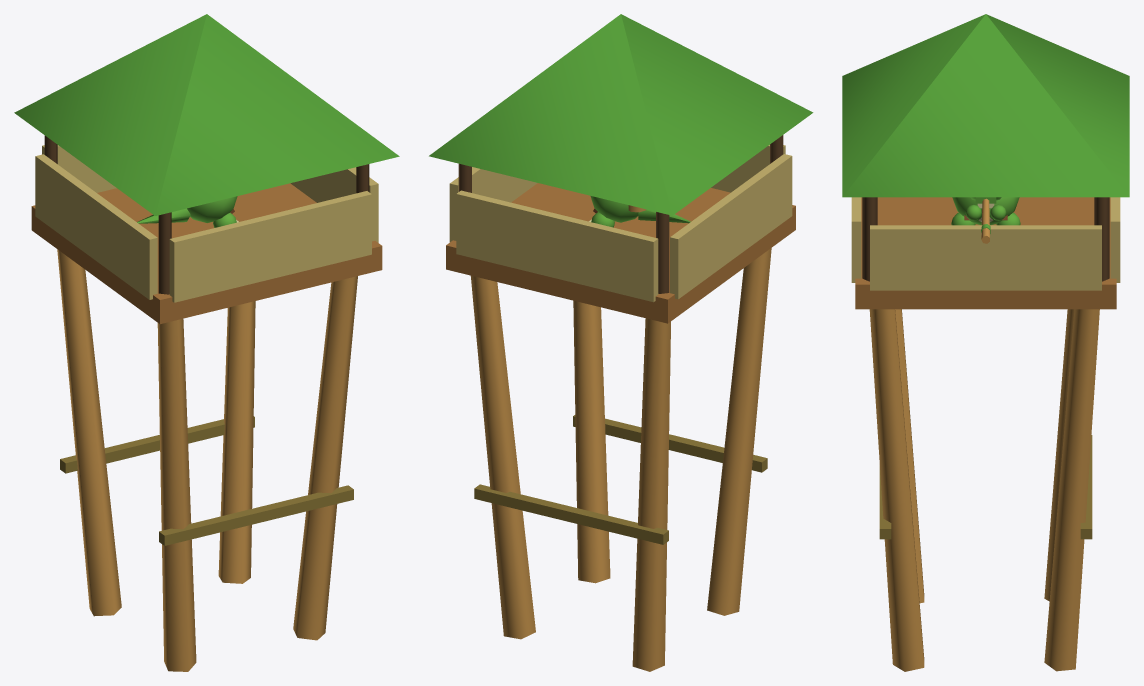
File: level2.glb
3 views of the same model, side by side, from view 1: azimuth 30°, elevation 25°; view 2: azimuth 150°, elevation 25°; view 3: azimuth 270°, elevation 25° (orthographic).
Parts seen in each view (by area): view 1: object 12, object 14, object 1, object 4, object 7, object 3, object 17, object 2, object 5, object 16, object 6, turret (+2 smaller); view 2: object 12, object 15, object 3, object 2, object 7, object 1, object 17, object 4, object 6, object 16, object 5, turret (+2 smaller); view 3: object 12, object 16, object 2, object 4, object 7, turret, object 1, object 3, object 14, object 15, object 9, object 11 (+1 smaller).
Part boxes in pixels (<box>): object 12: <box>14,14,399,215</box>; object 14: <box>169,191,371,302</box>; object 1: <box>57,249,121,616</box>; object 4: <box>293,276,357,640</box>; object 7: <box>31,183,382,324</box>; object 3: <box>157,318,196,671</box>; object 17: <box>35,154,157,299</box>; object 2: <box>218,301,255,583</box>; object 5: <box>159,485,353,545</box>; object 16: <box>290,167,378,242</box>; object 6: <box>60,416,254,473</box>; turret: <box>137,196,238,227</box>; object 12: <box>429,14,813,215</box>; object 15: <box>456,190,658,302</box>; object 3: <box>707,248,771,615</box>; object 2: <box>470,275,535,639</box>; object 7: <box>446,183,795,323</box>; object 1: <box>632,318,670,671</box>; object 17: <box>670,154,792,299</box>; object 4: <box>573,300,610,583</box>; object 6: <box>474,484,668,544</box>; object 16: <box>449,167,537,242</box>; object 5: <box>573,415,767,472</box>; turret: <box>589,196,690,227</box>; object 12: <box>842,14,1129,197</box>; object 16: <box>870,225,1101,290</box>; object 2: <box>1044,309,1099,671</box>; object 4: <box>869,309,924,671</box>; object 7: <box>855,197,1116,309</box>; turret: <box>951,197,1020,243</box>; object 1: <box>1044,309,1074,601</box>; object 3: <box>895,309,924,603</box>; object 14: <box>851,197,861,282</box>; object 15: <box>1110,197,1120,282</box>; object 9: <box>1094,197,1109,281</box>; object 11: <box>862,197,877,281</box>.
Bounding box in the file's own units: 1.64 × 3.75 × 1.57.
